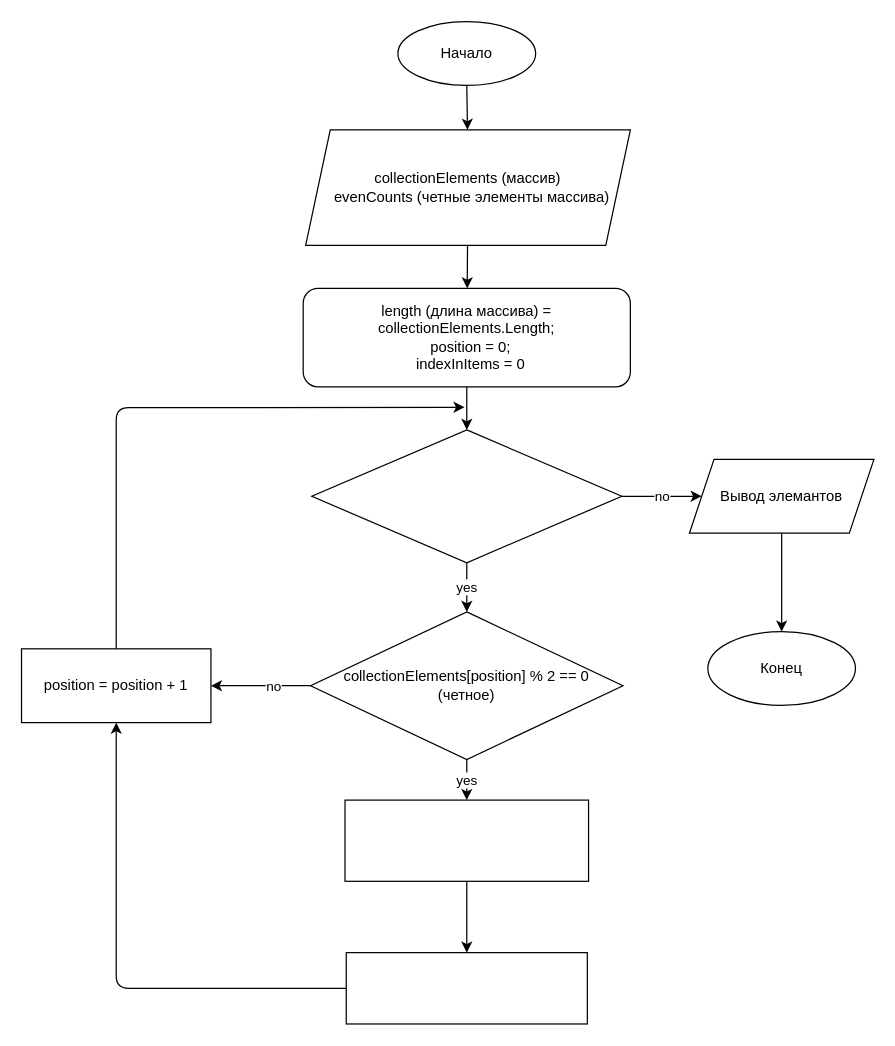
Image size: 895x1046. Some labels were removed from this diagram. Here are the shapes that lost their labels. From the top down, the centre of each, then its label:
the point at 466,496: position < length
the point at 466,840: items[indexInItems] = collectionElements[position]
the point at 466,987: indexInItems = indexInItems +1
